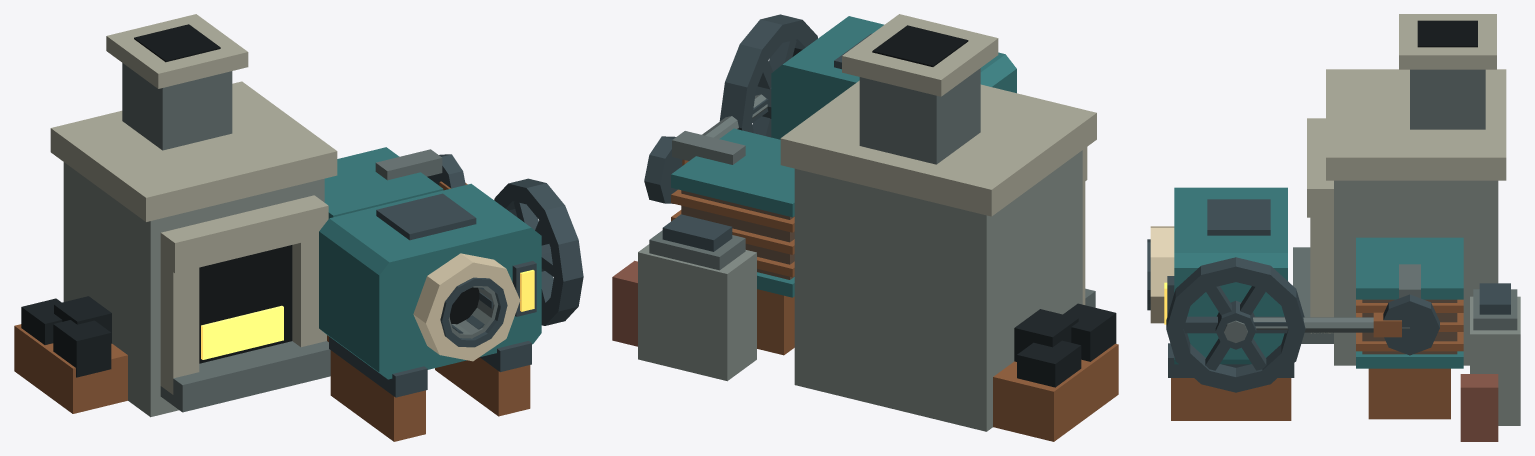
Rendered from furnace.glb.
3 views of the same model, side by side, from view 1: azimuth 30°, elevation 25°; view 2: azimuth 150°, elevation 25°; view 3: azimuth 270°, elevation 25° (orthographic). The views are drawn at different scales.
Visible parts, largest first — view 1: Furnace Refractory stone, BellowsDrive_teal, Furnace Stone, Furnace Dark stone, Furnace Timber, Furnace Kiln interior, BellowsDrive_iron, FlywheelPivot_iron, Furnace Coal, BellowsDrive_cream, Bellows top plate, Furnace Fire (+5 smaller); view 2: Furnace Stone, Furnace Refractory stone, Furnace Dark stone, Furnace Timber, BellowsDrive_teal, Bellows top plate, Furnace Coal, FlywheelPivot_iron, Furnace Kiln interior, Furnace Iron ore, Furnace Iron, Compression arm (+8 smaller); view 3: Furnace Refractory stone, Furnace Stone, FlywheelPivot_iron, BellowsDrive_teal, Furnace Timber, Furnace Dark stone, Bellows top plate, BellowsDrive_iron, Furnace Iron ore, Bellows cam, BellowsDrive_cream, Furnace Kiln interior (+10 smaller).
Boxes of the visible parts, x1,y1,x2,y2 form: Furnace Refractory stone: [50, 14, 337, 394]; BellowsDrive_teal: [319, 183, 541, 379]; Furnace Stone: [63, 162, 324, 417]; Furnace Dark stone: [122, 63, 330, 412]; Furnace Timber: [14, 324, 530, 441]; Furnace Kiln interior: [134, 24, 292, 363]; BellowsDrive_iron: [329, 193, 536, 397]; FlywheelPivot_iron: [494, 178, 583, 325]; Furnace Coal: [21, 296, 111, 377]; BellowsDrive_cream: [413, 253, 520, 361]; Bellows top plate: [324, 147, 443, 218]; Furnace Fire: [201, 305, 283, 359]; Furnace Stone: [638, 150, 1082, 431]; Furnace Refractory stone: [780, 14, 1096, 304]; Furnace Dark stone: [649, 68, 1095, 307]; Furnace Timber: [757, 289, 1118, 441]; BellowsDrive_teal: [771, 16, 1016, 139]; Bellows top plate: [671, 128, 794, 217]; Furnace Coal: [1014, 303, 1116, 387]; FlywheelPivot_iron: [719, 14, 817, 137]; Furnace Kiln interior: [872, 25, 968, 66]; Furnace Iron ore: [612, 260, 637, 346]; Furnace Iron: [662, 214, 732, 251]; Compression arm: [672, 131, 745, 164]; Furnace Refractory stone: [1307, 14, 1506, 333]; Furnace Stone: [1334, 180, 1520, 425]; FlywheelPivot_iron: [1166, 257, 1305, 392]; BellowsDrive_teal: [1174, 187, 1287, 364]; Furnace Timber: [1171, 368, 1450, 420]; Furnace Dark stone: [1293, 69, 1517, 343]; Bellows top plate: [1356, 237, 1463, 299]; BellowsDrive_iron: [1147, 199, 1294, 377]; Furnace Iron ore: [1460, 374, 1498, 441]; Bellows cam: [1383, 294, 1439, 355]; BellowsDrive_cream: [1150, 226, 1174, 323]; Furnace Kiln interior: [1417, 20, 1477, 47].
Bounding box in the file's own units: 1.4 × 1.02 × 1.18.
